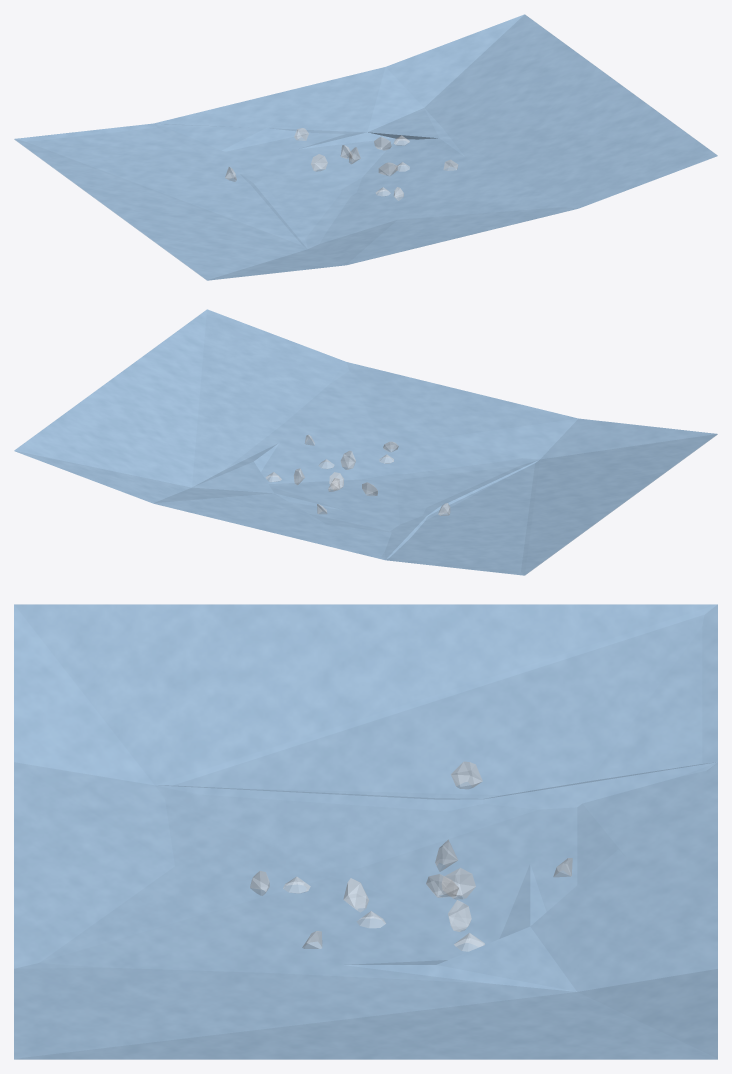
File: GemParcel_LOD2.obj
The picture shows the model from 3 angles, top to bottom: view 1: azimuth 30°, elevation 25°; view 2: azimuth 150°, elevation 25°; view 3: azimuth 270°, elevation 25°; orthographic projection. The views are drawn at different scales.
Parts seen in each view (by area): view 1: GemPaper, Diamond; view 2: GemPaper, Diamond; view 3: GemPaper, Diamond.
Part boxes in pixels (x1,y1,x2,y2): GemPaper: (14,14,717,280); Diamond: (225,128,458,200); GemPaper: (14,309,717,575); Diamond: (265,435,450,515); GemPaper: (14,604,717,1059); Diamond: (250,761,572,951).
Size of the model in its own units: 0.11 by 0.0071 by 0.072.
Materials: 2 (1 with a texture image).
